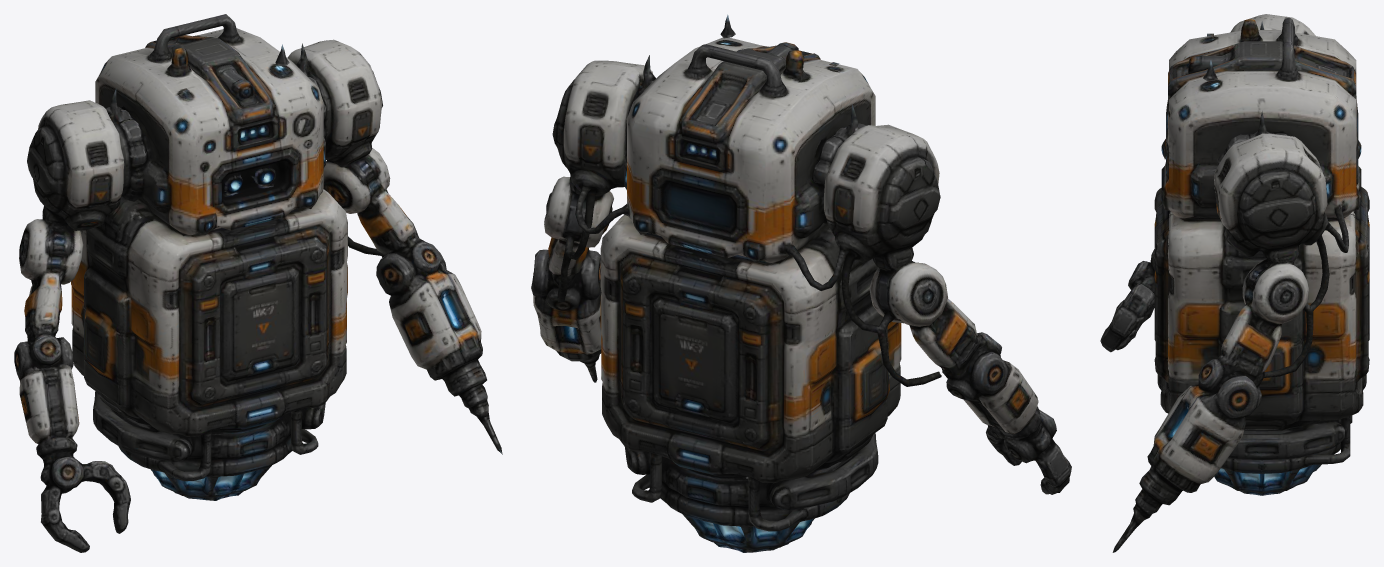
The model's file is construction_bot_2.fbx.
3 views of the same model, side by side, from view 1: azimuth 30°, elevation 25°; view 2: azimuth 150°, elevation 25°; view 3: azimuth 270°, elevation 25° (orthographic). The views are drawn at different scales.
Parts seen in each view (by area): view 1: tripo_node_9ab6ecdf; view 2: tripo_node_9ab6ecdf; view 3: tripo_node_9ab6ecdf.
Part boxes in pixels (bbox=[...]): tripo_node_9ab6ecdf: bbox=[14, 14, 502, 552]; tripo_node_9ab6ecdf: bbox=[531, 14, 1071, 552]; tripo_node_9ab6ecdf: bbox=[1100, 14, 1369, 552].
Size of the model in its own units: 0.9918 by 0.9394 by 0.5105.
1 material, 1 textured.
